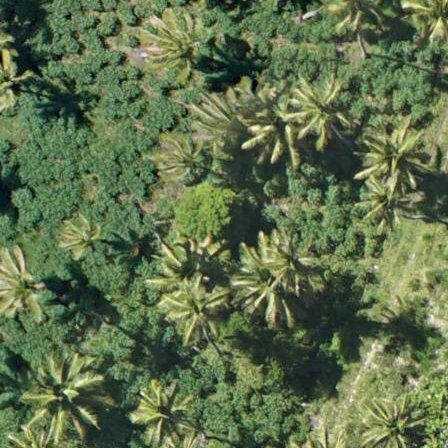palm_tree: (19, 345, 107, 439), (241, 235, 313, 317), (282, 68, 353, 143), (1, 243, 52, 329), (141, 11, 208, 76), (128, 378, 192, 446), (358, 389, 426, 448), (359, 125, 424, 181), (165, 281, 225, 338), (155, 134, 214, 185), (58, 212, 109, 267)
